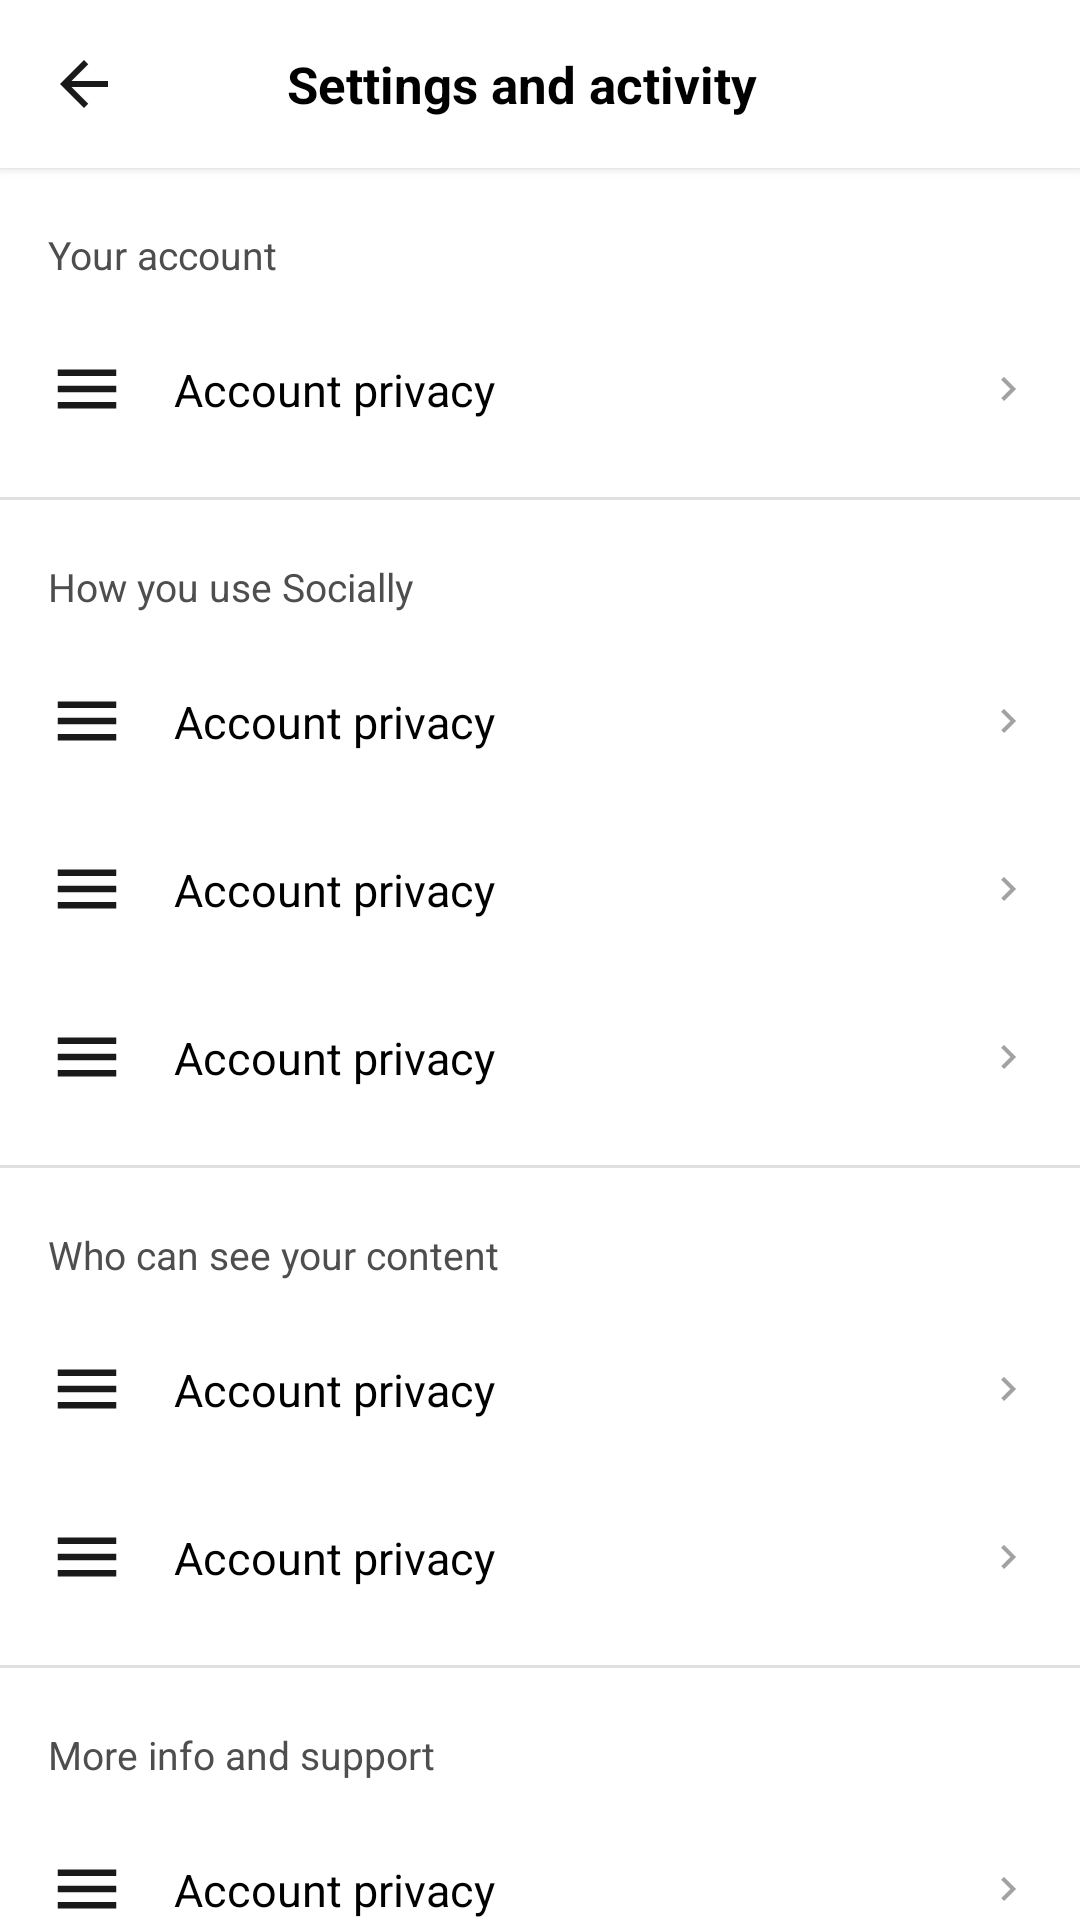

Locate icon controls on the screen. Image size 1080w x 1920h, boxes as (x1, y1, x2, y2).
Back: (60, 60, 108, 108)
user profile chevron: (1001, 377, 1016, 401), (1001, 709, 1016, 733), (1001, 877, 1016, 901), (1001, 1045, 1016, 1069), (1001, 1377, 1016, 1401), (1001, 1545, 1016, 1569), (1001, 1877, 1016, 1901)
